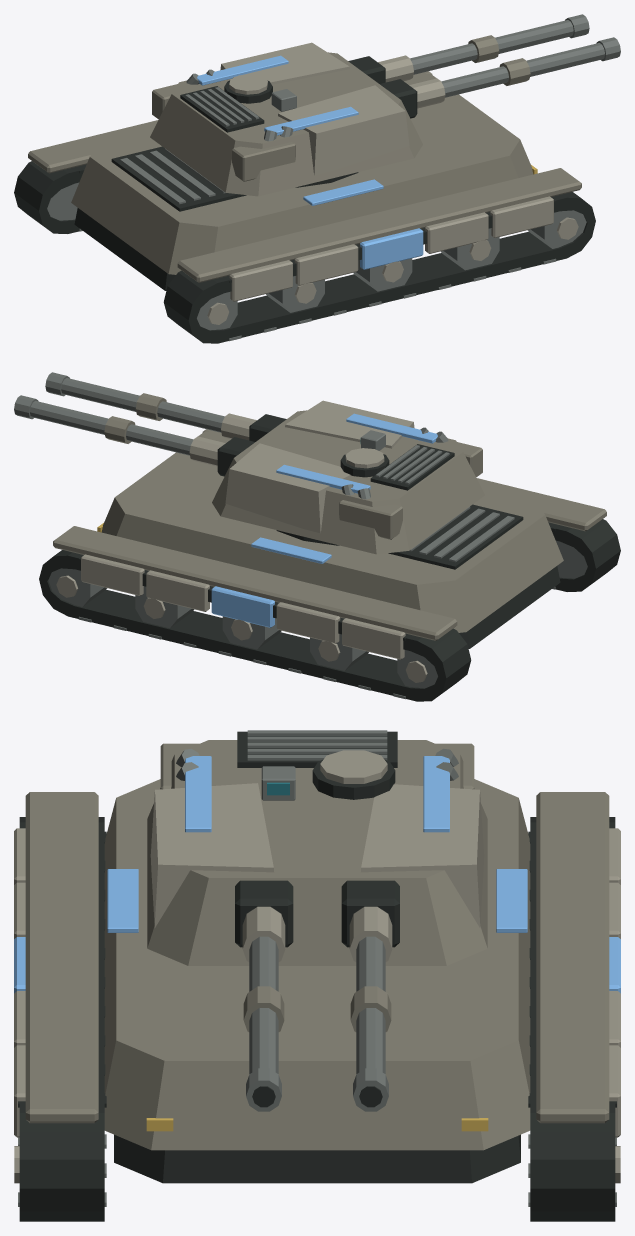
File: colossus.glb
3 renders of one model, top to bottom at view 1: azimuth 30°, elevation 25°; view 2: azimuth 150°, elevation 25°; view 3: azimuth 270°, elevation 25°, orthographic. The views are drawn at different scales.
Parts seen in each view (by area): view 1: Hull, Turret; view 2: Hull, Turret; view 3: Hull, Turret.
Part boxes in pixels (x1,y1,x2,y2): Hull: (14,71,595,343); Turret: (150,14,620,196); Hull: (39,429,620,701); Turret: (14,372,484,554); Hull: (14,779,620,1221); Turret: (147,730,487,1111).
Bounding box in the file's own units: 4.05 × 1.23 × 2.5.
